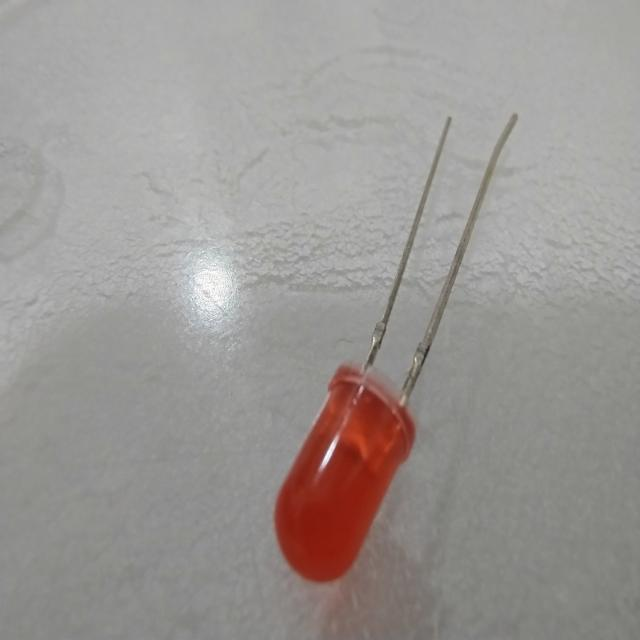red_led: (257, 363, 428, 594)
